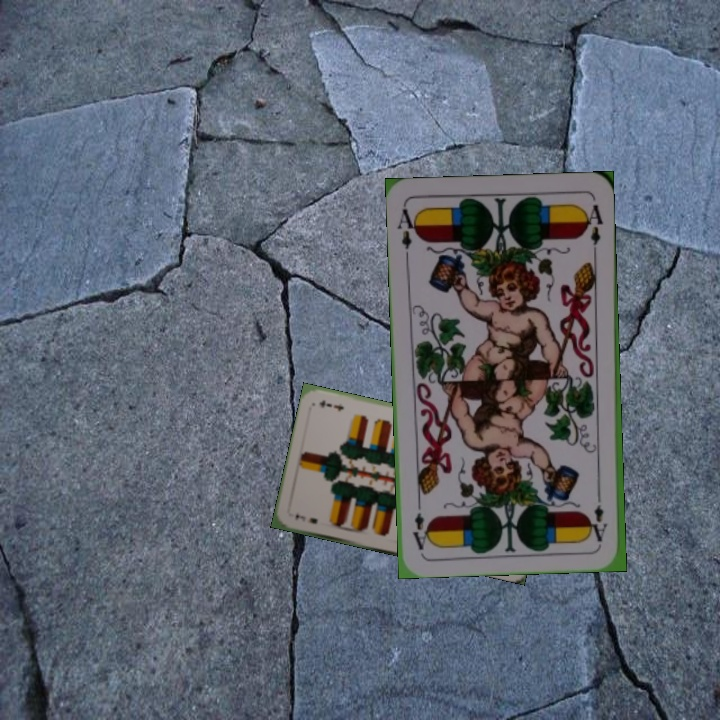E7: (291, 510, 320, 526)
EA: (393, 203, 421, 262), (590, 486, 610, 545)
